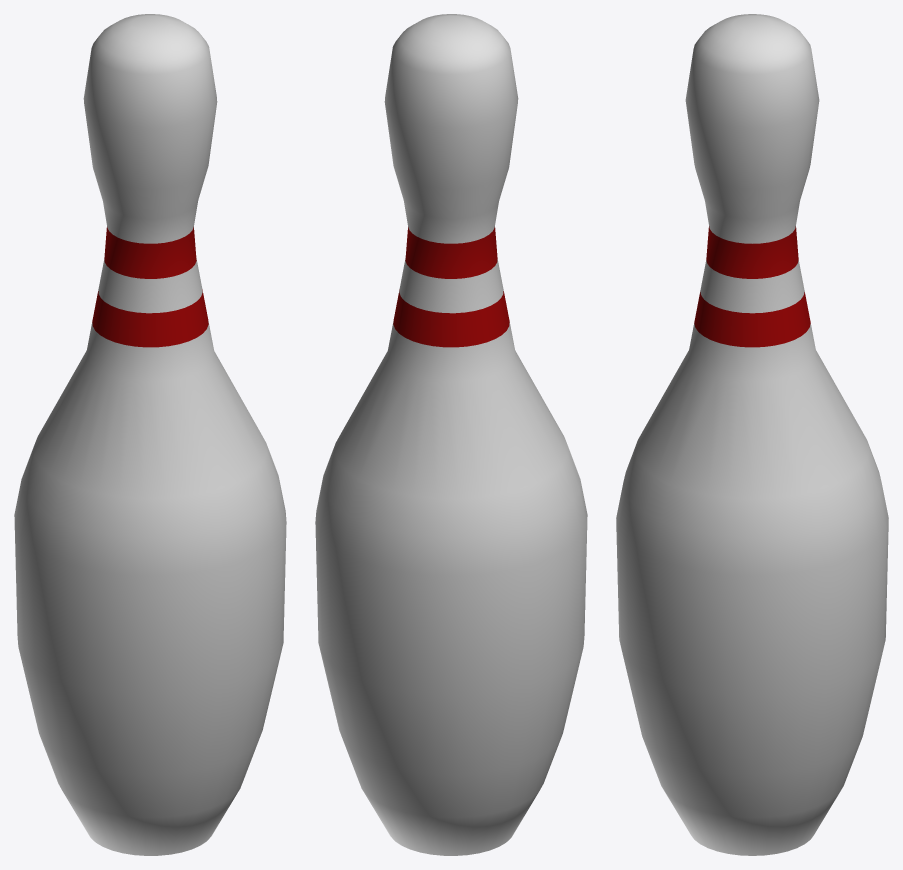
Rendered from pin.fbx.
The picture shows the model from 3 angles, left to right: view 1: azimuth 30°, elevation 25°; view 2: azimuth 150°, elevation 25°; view 3: azimuth 270°, elevation 25°; orthographic projection.
Parts seen in each view (by area): view 1: polySurface2; view 2: polySurface2; view 3: polySurface2.
Boxes of the visible parts, x1=… form: polySurface2: x1=14, y1=14, x2=286, y2=855; polySurface2: x1=315, y1=14, x2=587, y2=855; polySurface2: x1=616, y1=14, x2=888, y2=855.
Size of the model in its own units: 10.59 by 34.52 by 10.59.
